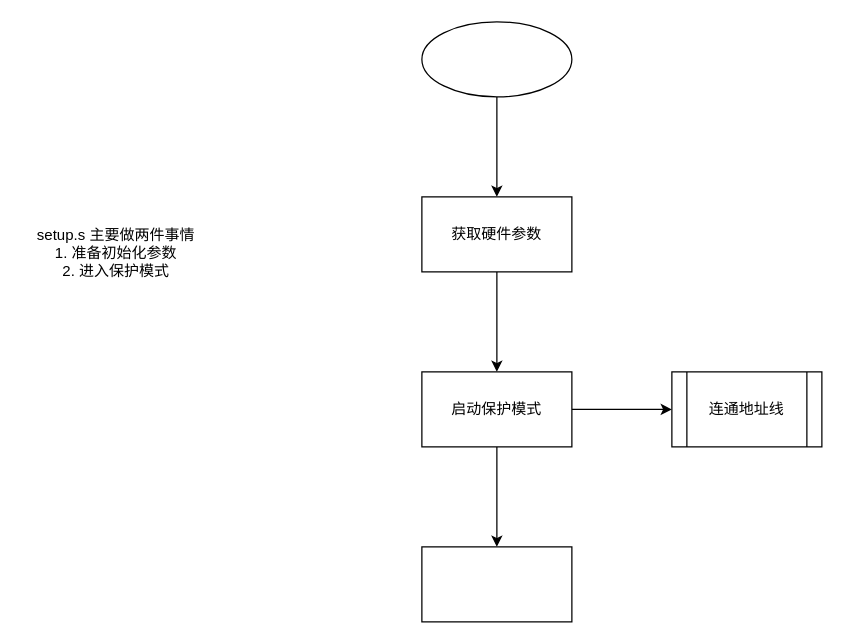
This 844x644 diagram has some shape labels left out. Here are the shapes that lost their labels. From the top down, the centre of each, then its label:
point (496, 59): 开始执行setup
point (496, 584): 创建并设置GDT表
